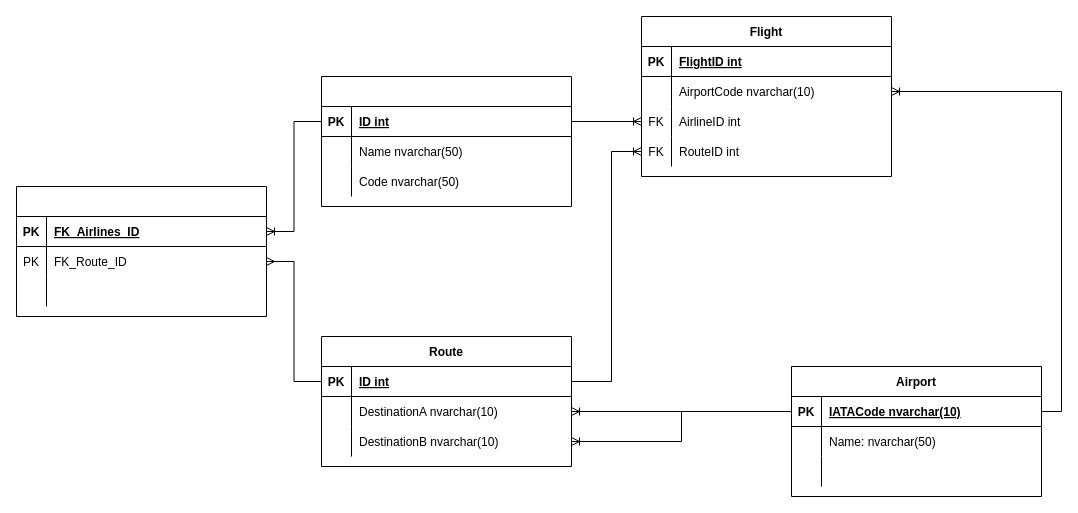
Some shapes in this 1078 by 513 pixel diagram are drawn without their labels. The shapes that lost their labels are listed below. From the top down, each one's box as (x1, y1, x2, y2) in pixels, then its label:
(320, 76, 572, 206): Airline
(16, 186, 266, 316): AirlineRoutes
